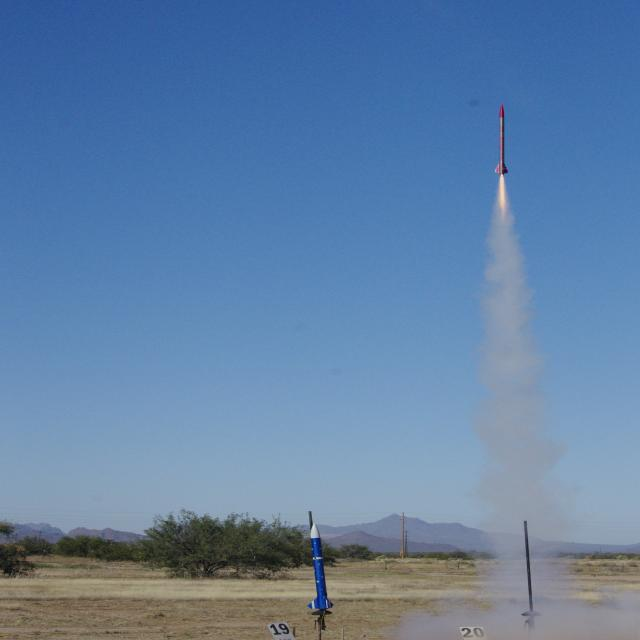Rocket: (307, 522, 335, 611), (494, 102, 510, 176)
